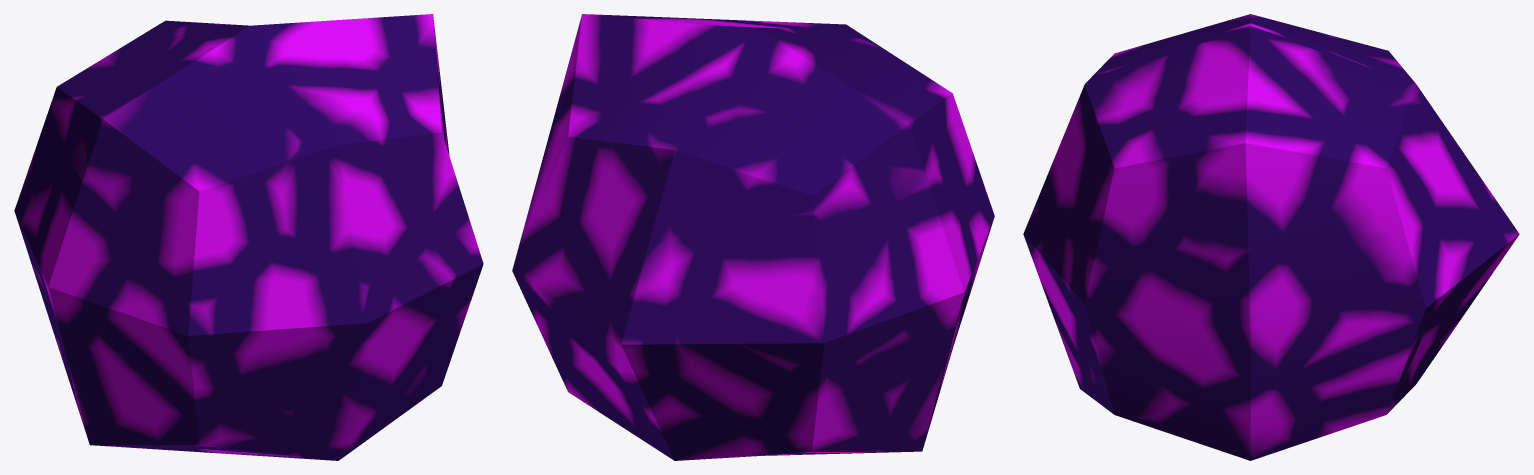
The model's file is VioletGem.fbx.
3 renders of one model, left to right at view 1: azimuth 30°, elevation 25°; view 2: azimuth 150°, elevation 25°; view 3: azimuth 270°, elevation 25°, orthographic. The views are drawn at different scales.
Parts seen in each view (by area): view 1: Cube.005; view 2: Cube.005; view 3: Cube.005.
Part boxes in pixels (x1=…): Cube.005: x1=14, y1=14, x2=483, y2=460; Cube.005: x1=512, y1=14, x2=994, y2=460; Cube.005: x1=1023, y1=14, x2=1519, y2=460.
Bounding box in the file's own units: 0.1482 × 0.1482 × 0.1619.
Materials: 1 (1 with a texture image).
